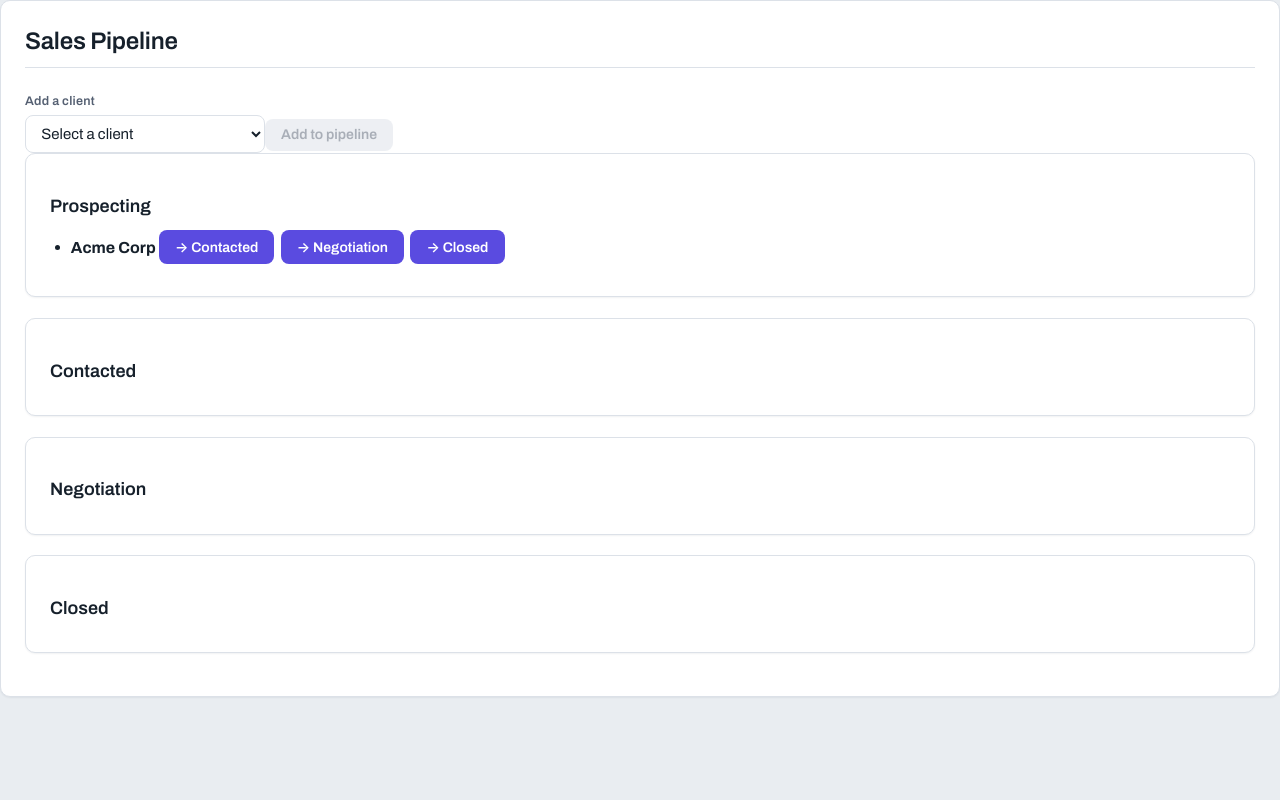
Test: SalesPipelineBoard › moves a card to the target column when a stage button is clicked (AC-4-5)
Expected: the text "Acme Corp" is shown, x1=71 y1=238 x2=156 y2=255
Click the button "→ Contacted". click: (217, 247)
box: x1=159 y1=230 x2=274 y2=264
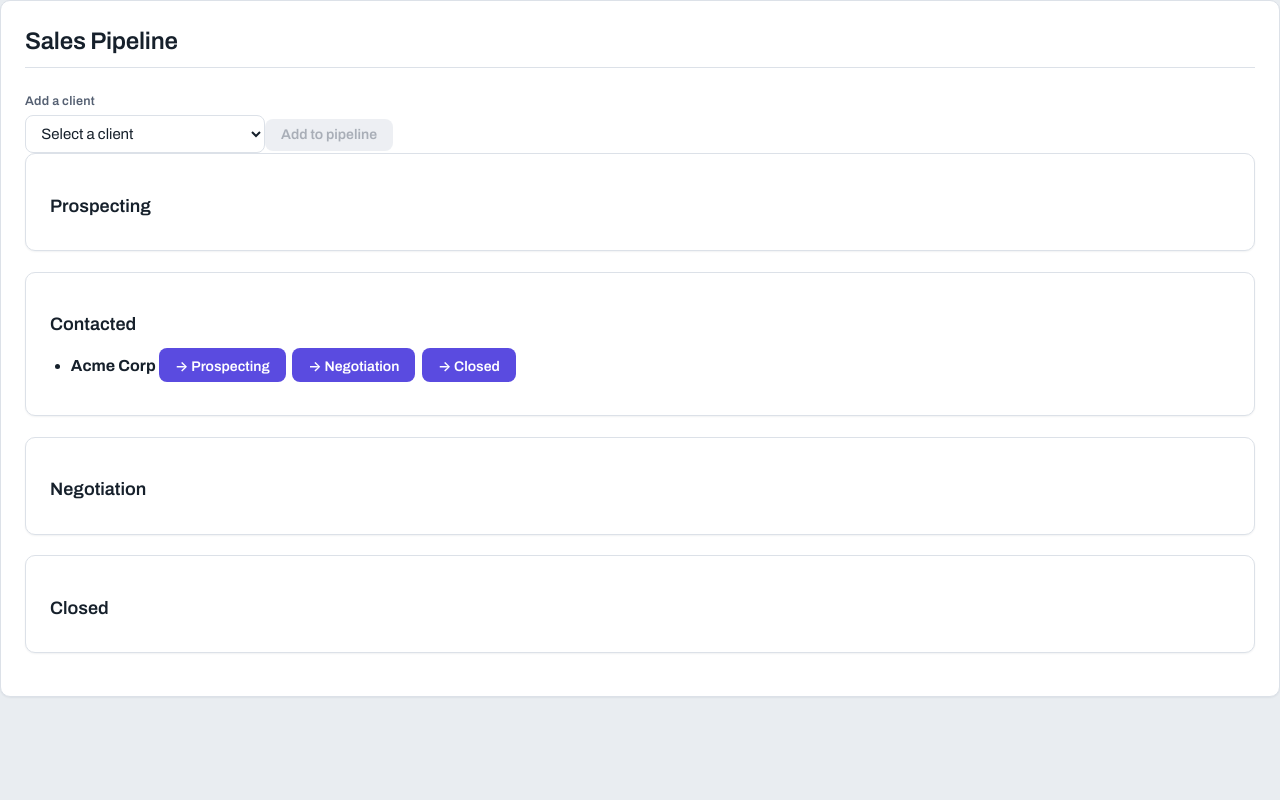
Expected: the element named "prospecting column" does not show "Acme Corp", x1=25 y1=153 x2=1255 y2=251
Expected: the element named "contacted column" shows "Acme Corp", x1=71 y1=357 x2=156 y2=374
